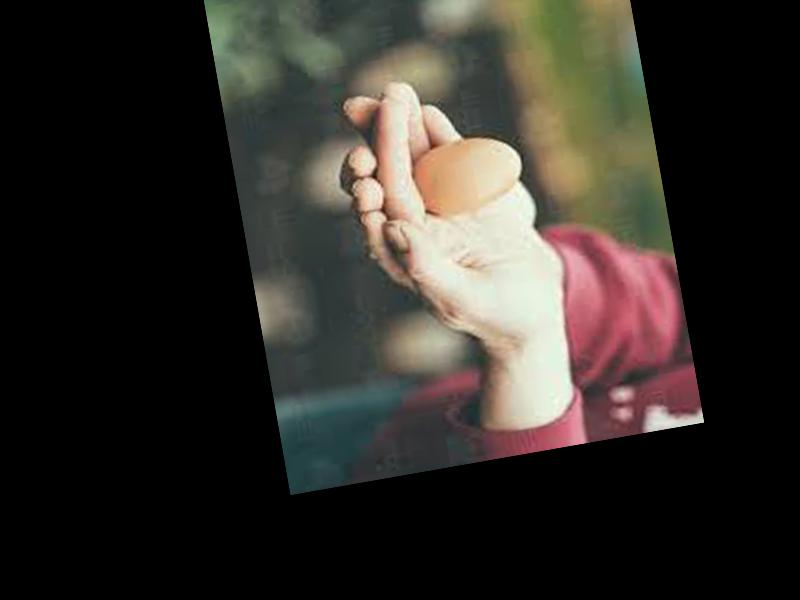Eggs: (411, 131, 527, 219)
